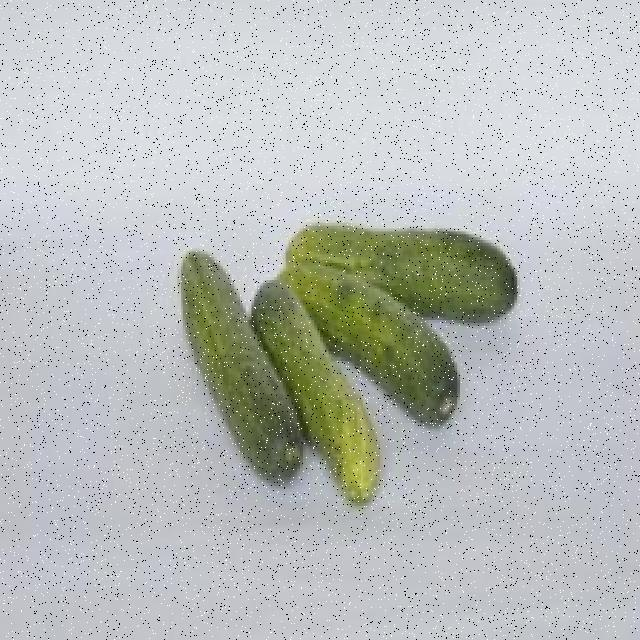Cucumber: (244, 172, 583, 317), (152, 217, 316, 506), (232, 250, 388, 527)
